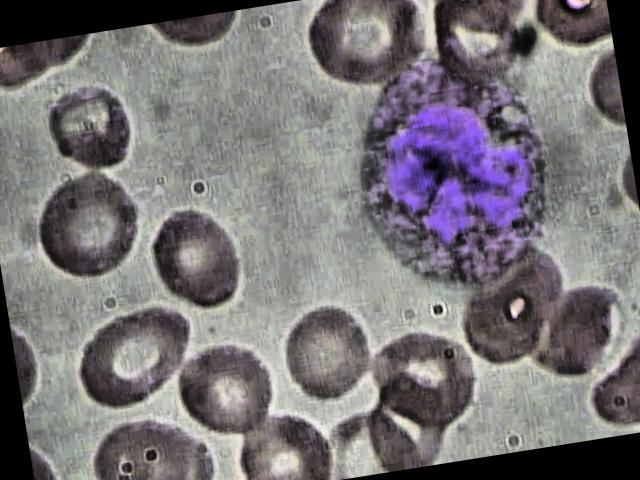RBC: (19, 156, 156, 292), (58, 298, 202, 418), (138, 192, 260, 322), (288, 0, 439, 105), (167, 330, 295, 452), (362, 316, 498, 430), (30, 70, 162, 183), (276, 286, 380, 411), (80, 413, 199, 480)
WBC: (329, 31, 591, 311)
